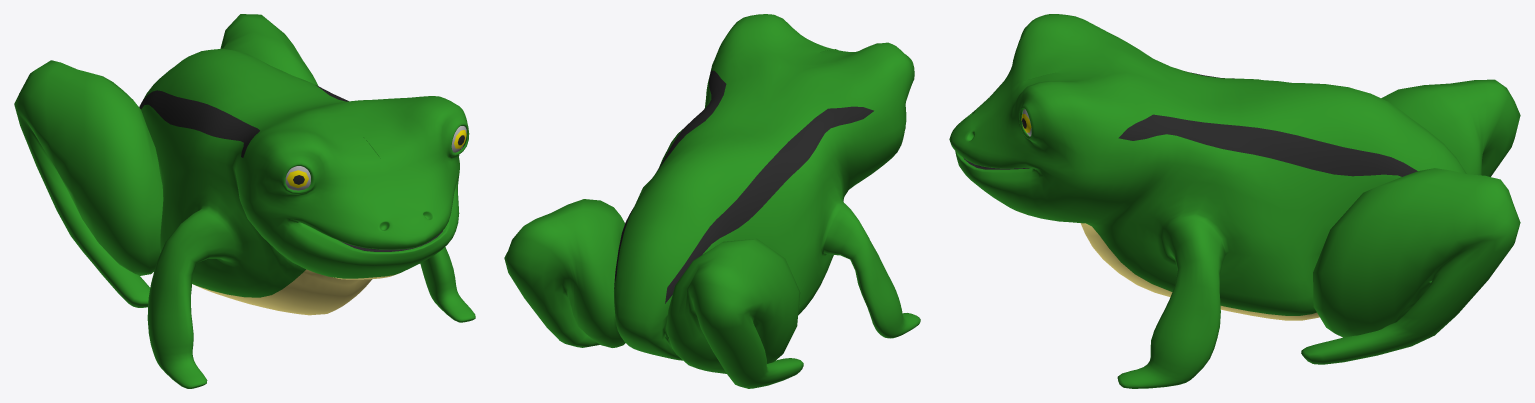
File: Frog-1.fbx
3 views of the same model, side by side, from view 1: azimuth 30°, elevation 25°; view 2: azimuth 150°, elevation 25°; view 3: azimuth 270°, elevation 25° (orthographic). The views are drawn at different scales.
Parts seen in each view (by area): view 1: Frog-1; view 2: Frog-1; view 3: Frog-1.
Part boxes in pixels (x1,y1,x2,y2): Frog-1: [14, 14, 475, 388]; Frog-1: [504, 14, 920, 388]; Frog-1: [949, 14, 1520, 388].
Bounding box in the file's own units: 3.8 × 3.2 × 6.24.
